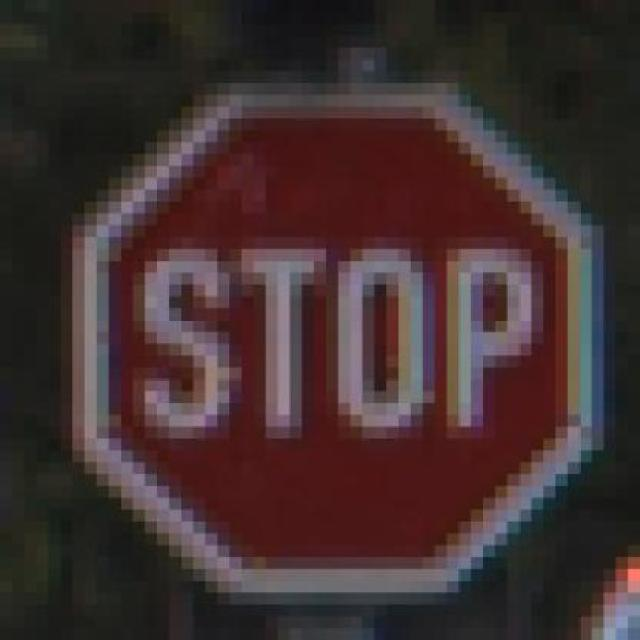Stop_Sign: (49, 70, 616, 604)
